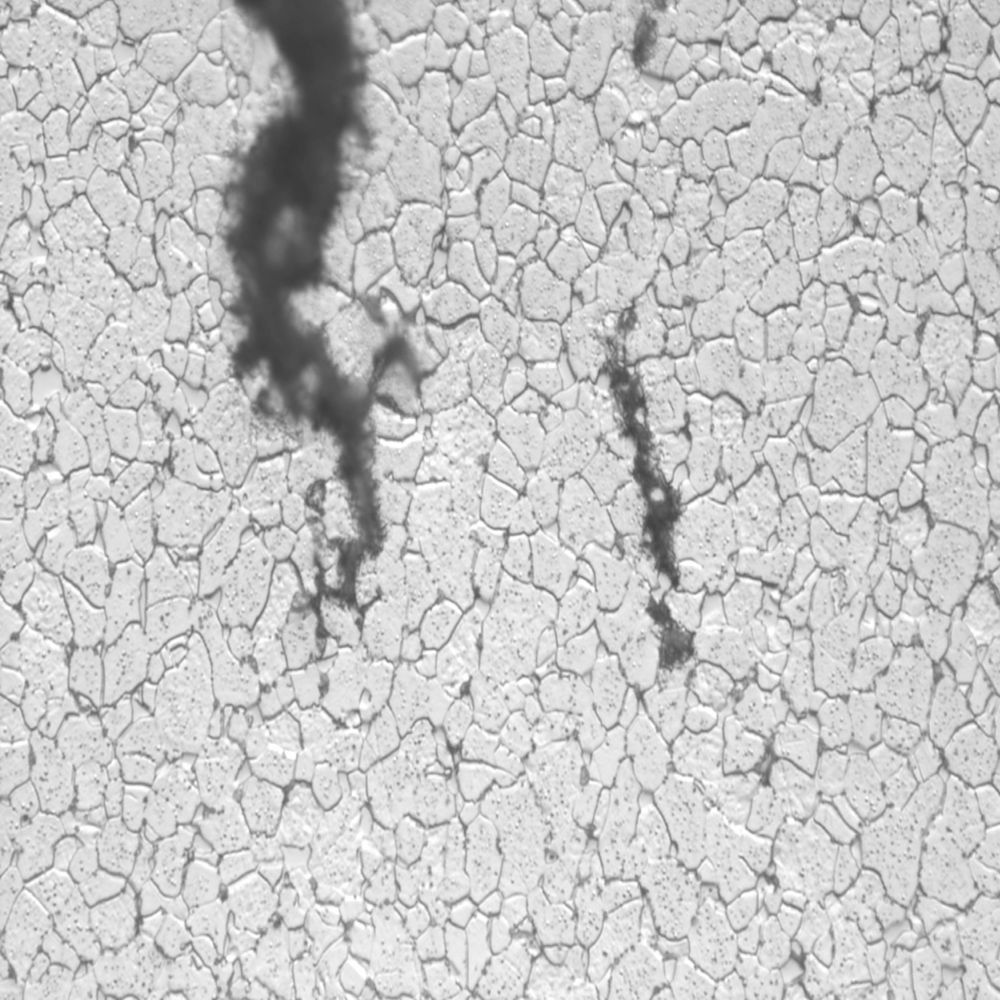crack: (202, 1, 423, 691), (559, 296, 721, 701)
